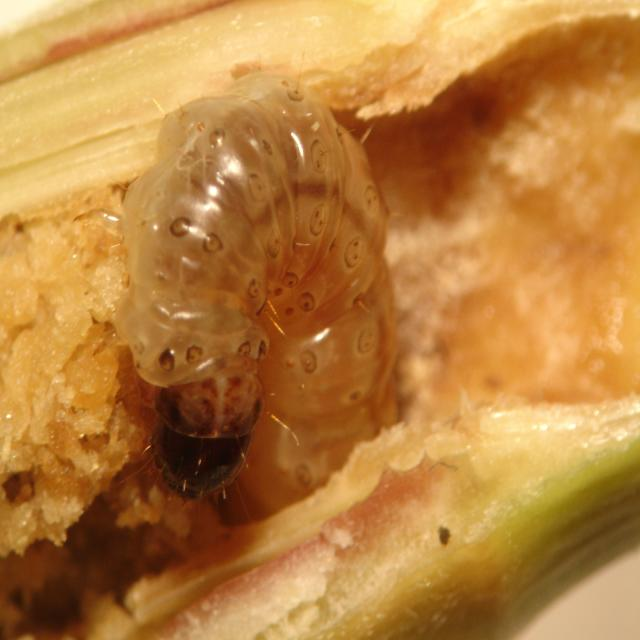cornborer-Larva-: (116, 51, 422, 506)
